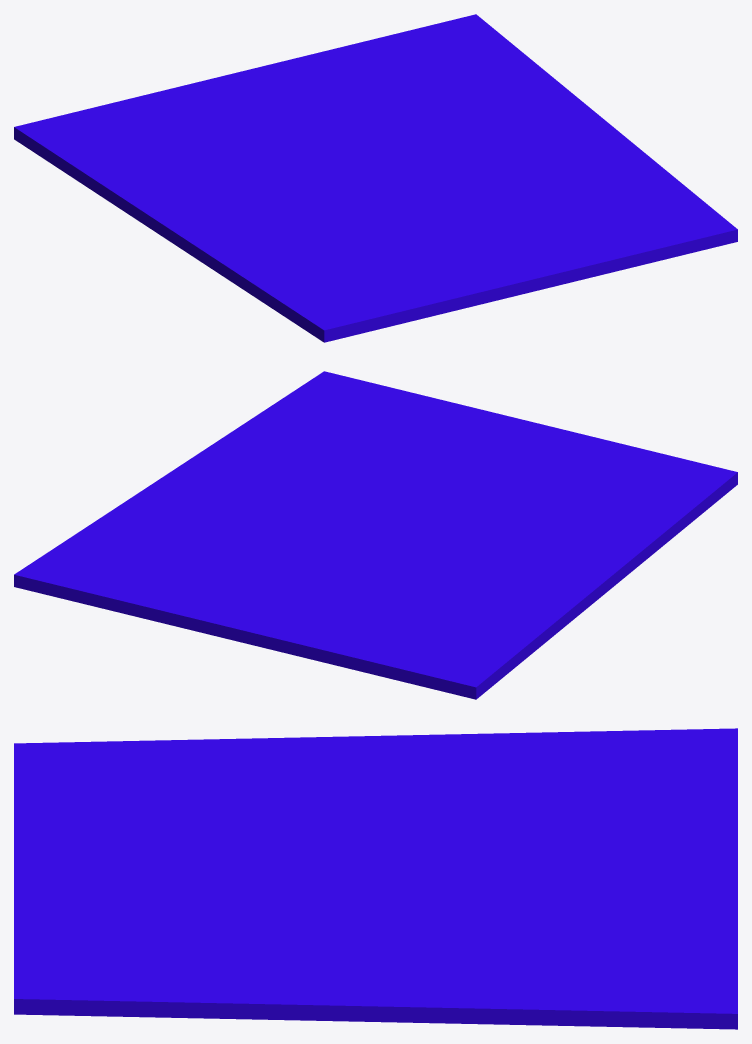
The model's file is office_pack_allInOneComputer_mouseMat_1_meshCollider.fbx.
3 renders of one model, top to bottom at view 1: azimuth 30°, elevation 25°; view 2: azimuth 150°, elevation 25°; view 3: azimuth 270°, elevation 25°, orthographic. The views are drawn at different scales.
Visible parts, largest first — view 1: office_pack_allInOneComputer_mouseMat_1_meshCollider; view 2: office_pack_allInOneComputer_mouseMat_1_meshCollider; view 3: office_pack_allInOneComputer_mouseMat_1_meshCollider.
Boxes of the visible parts, x1=… form: office_pack_allInOneComputer_mouseMat_1_meshCollider: x1=14, y1=14, x2=737, y2=342; office_pack_allInOneComputer_mouseMat_1_meshCollider: x1=14, y1=371, x2=737, y2=699; office_pack_allInOneComputer_mouseMat_1_meshCollider: x1=14, y1=728, x2=737, y2=1029.
Bounding box in the file's own units: 18.65 × 0.4755 × 19.99.
